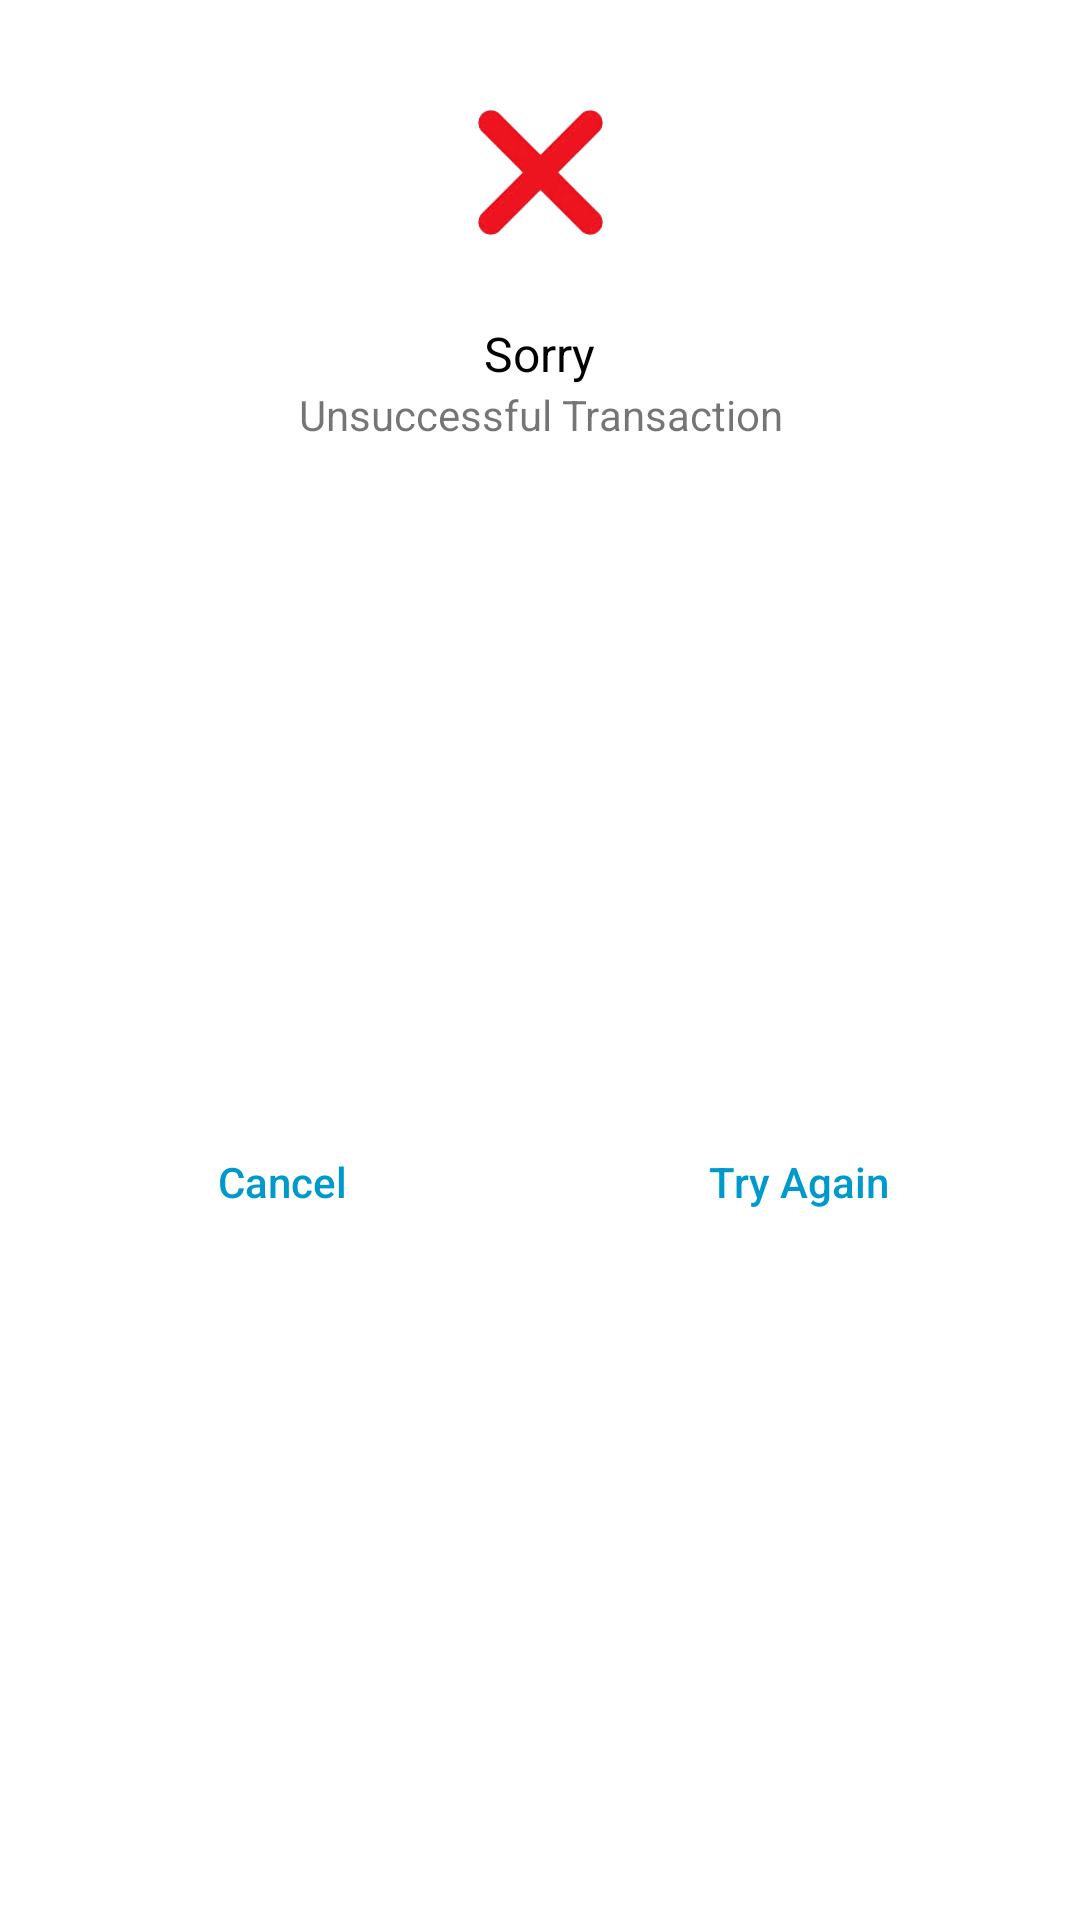

Icon click points for this 1080*1920 phone screenshot, format point (x, y):
wrong adobespark: point (540, 172)
